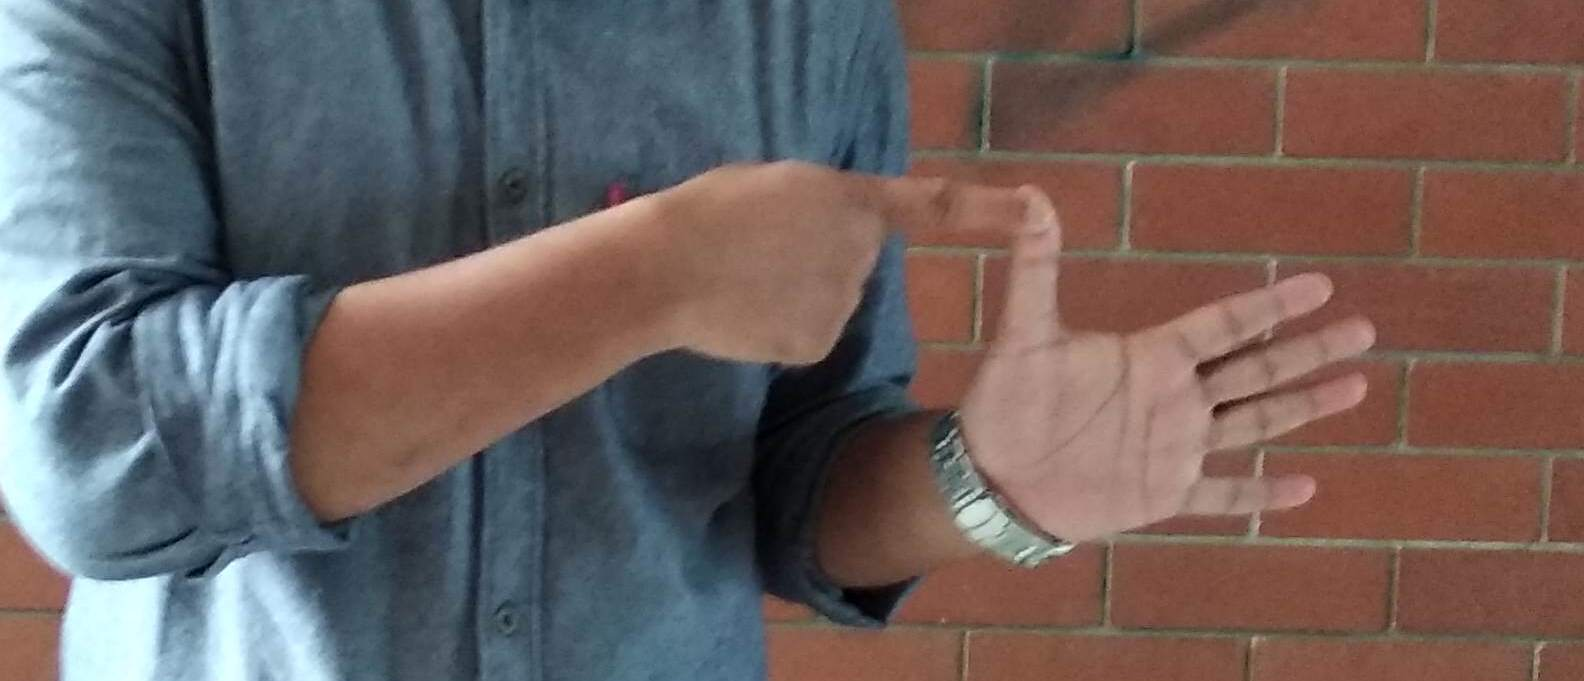a: (735, 163, 1381, 540)
